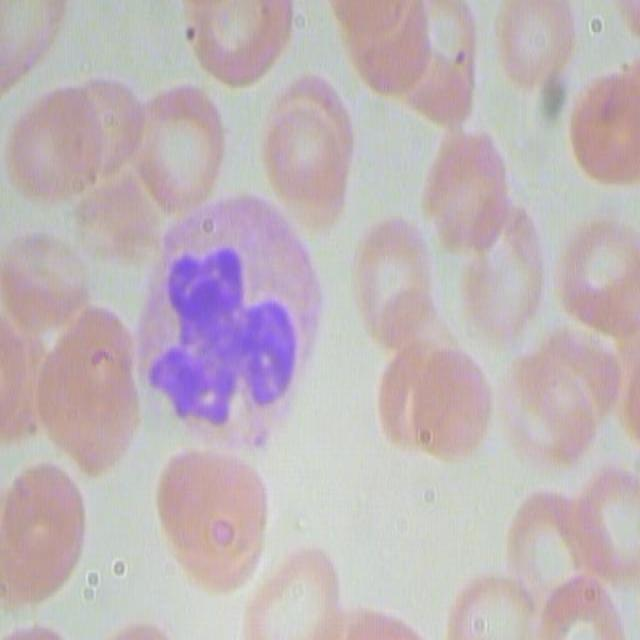WBC: (125, 191, 324, 458)
